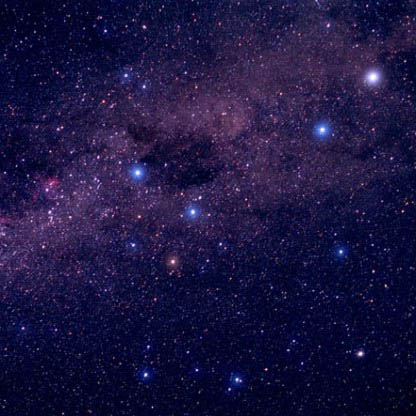Southern Cross: (123, 156, 152, 184), (178, 202, 203, 226), (159, 253, 184, 275), (123, 236, 144, 255)
